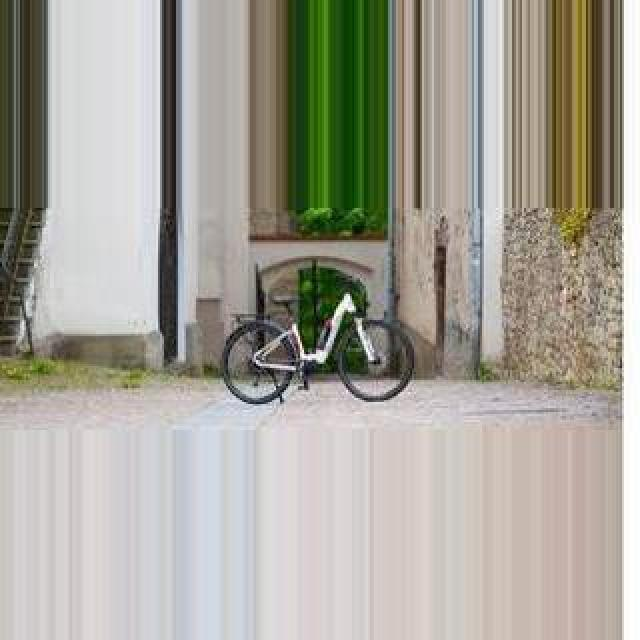Person: (219, 282, 417, 406)
